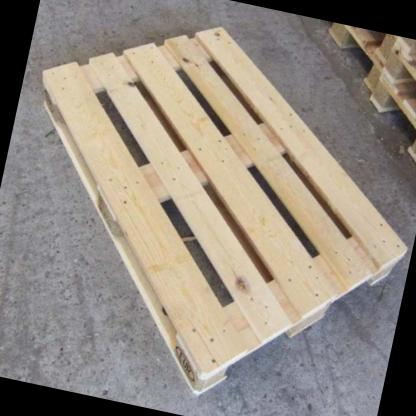BoxFace: (38, 26, 409, 402)
